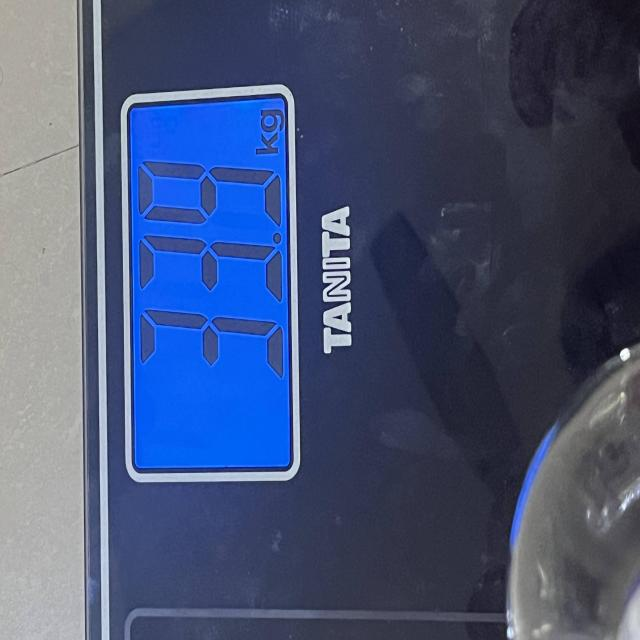ws: (118, 85, 302, 488)
